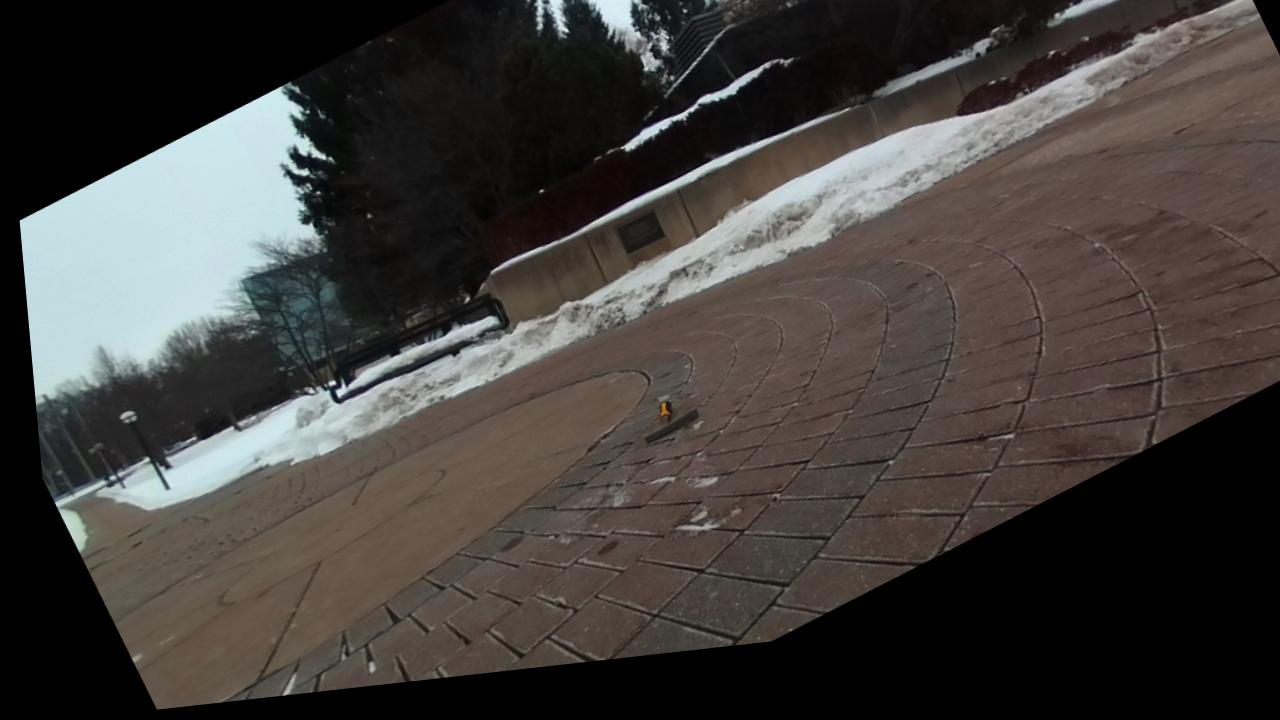pick: (645, 396, 700, 443)
